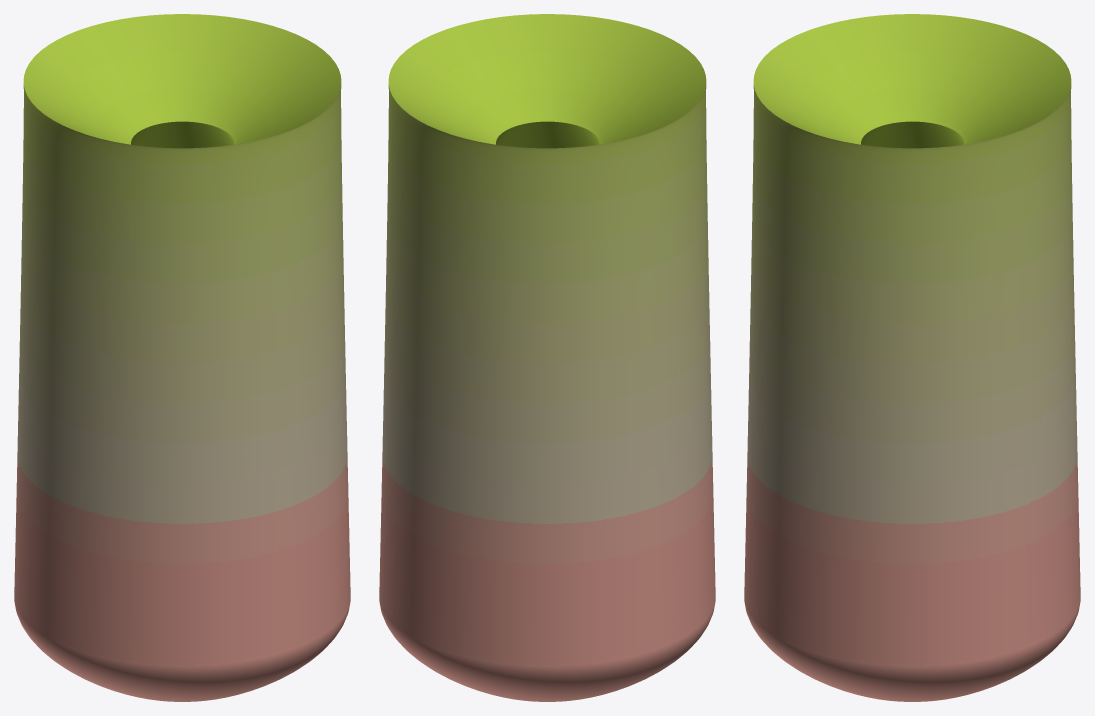
File: SM_cup.gltf
3 renders of one model, left to right at view 1: azimuth 30°, elevation 25°; view 2: azimuth 150°, elevation 25°; view 3: azimuth 270°, elevation 25°, orthographic.
Size of the model in its own units: 0.0732 by 0.1404 by 0.0733.
Materials: 1 (1 with a texture image).
